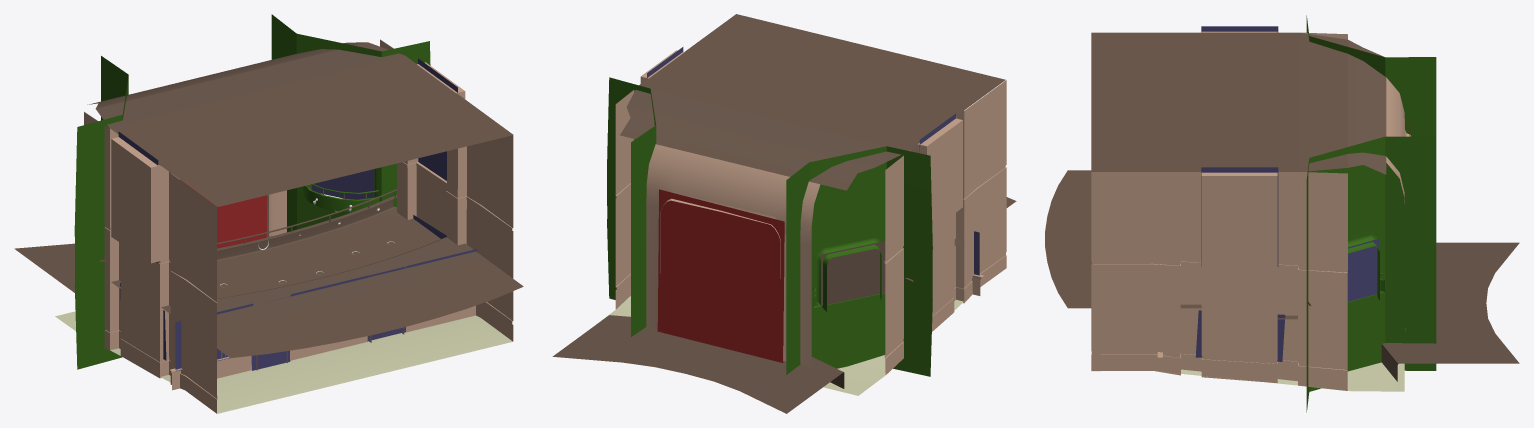
The model's file is Theater.fbx.
3 views of the same model, side by side, from view 1: azimuth 30°, elevation 25°; view 2: azimuth 150°, elevation 25°; view 3: azimuth 270°, elevation 25° (orthographic). The views are drawn at different scales.
Parts seen in each view (by area): view 1: ceiling1, walls, bigBal, floor1, balconyWallLeft, balconyWalRight, stageCurtain, stage, balconyCurtainRight, smallBalconyRight, stageWall, halfWallFirstFloor2 (+5 smaller); view 2: ceiling1, walls, balconyWallLeft, stageCurtain, stageWall, stage, balconyWalRight, balconyCurtainRight1, floor1; view 3: walls, ceiling1, balconyWalRight, stage, bigBal, balconyWallLeft, floor1, balconyCurtainRight, stageWall, topWindowCurtain1, windowCurtain, topWindowCurtain.
Boxes of the visible parts, left/top/right/bottom form: ceiling1: left=87, top=42, right=513, bottom=206; walls: left=84, top=39, right=513, bottom=413; bigBal: left=111, top=195, right=523, bottom=358; floor1: left=55, top=311, right=512, bottom=413; balconyWallLeft: left=74, top=56, right=128, bottom=369; balconyWalRight: left=271, top=14, right=430, bottom=232; stageCurtain: left=158, top=164, right=267, bottom=248; stage: left=14, top=243, right=74, bottom=292; balconyCurtainRight: left=311, top=169, right=374, bottom=199; smallBalconyRight: left=302, top=185, right=379, bottom=212; stageWall: left=266, top=190, right=286, bottom=237; halfWallFirstFloor2: left=170, top=355, right=257, bottom=390; ceiling1: left=620, top=14, right=1005, bottom=190; walls: left=615, top=50, right=1006, bottom=374; balconyWallLeft: left=786, top=146, right=932, bottom=376; stageCurtain: left=657, top=189, right=784, bottom=362; stageWall: left=646, top=144, right=820, bottom=366; stage: left=552, top=315, right=844, bottom=413; balconyWalRight: left=607, top=77, right=656, bottom=336; balconyCurtainRight1: left=821, top=241, right=885, bottom=305; floor1: left=599, top=296, right=963, bottom=395; walls: left=1091, top=31, right=1347, bottom=390; ceiling1: left=1091, top=32, right=1386, bottom=174; balconyWalRight: left=1306, top=136, right=1436, bottom=412; stage: left=1381, top=242, right=1519, bottom=381; bigBal: left=1045, top=170, right=1307, bottom=319; balconyWallLeft: left=1306, top=15, right=1436, bottom=136; floor1: left=1091, top=351, right=1404, bottom=391; balconyCurtainRight: left=1347, top=239, right=1379, bottom=301; stageWall: left=1386, top=77, right=1410, bottom=330; topWindowCurtain1: left=1201, top=167, right=1278, bottom=266; windowCurtain: left=1195, top=310, right=1285, bottom=361; topWindowCurtain: left=1201, top=26, right=1278, bottom=32.
Size of the model in its own units: 24.31 by 15.77 by 28.99.
